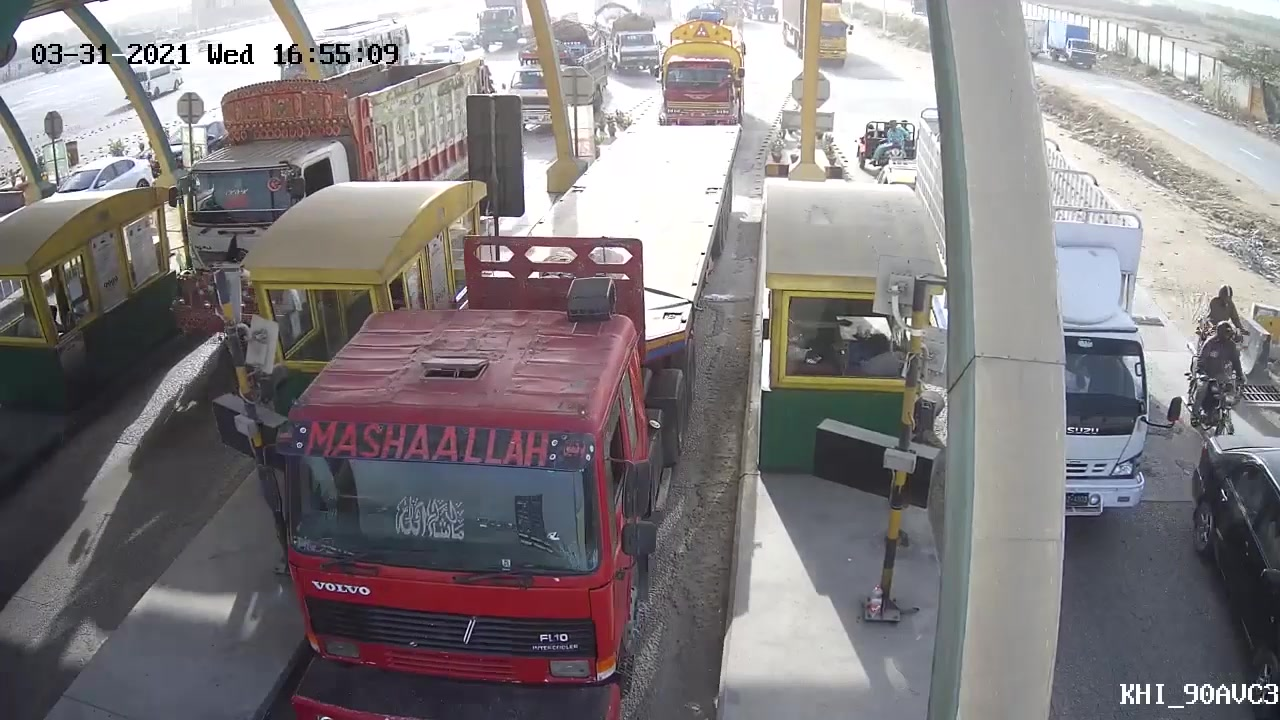F5: (266, 112, 748, 708)
